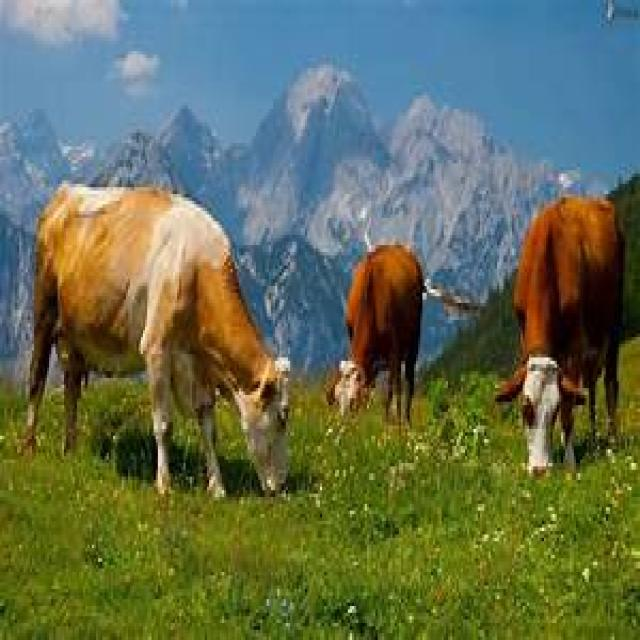cow: (25, 186, 289, 498), (496, 197, 624, 474), (328, 245, 422, 422)
